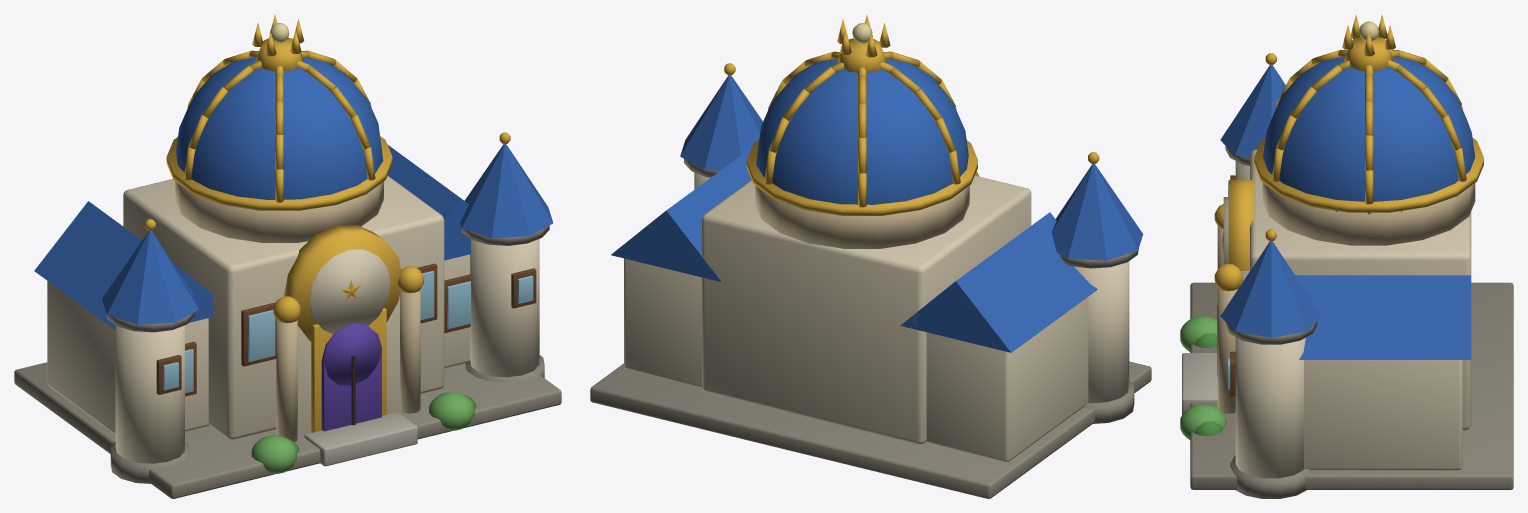
Rendered from k_keep.glb.
The picture shows the model from 3 angles, left to right: view 1: azimuth 30°, elevation 25°; view 2: azimuth 150°, elevation 25°; view 3: azimuth 270°, elevation 25°; orthographic projection. The views are drawn at different scales.
Visible parts, largest first — view 1: SK_k_keep; view 2: SK_k_keep; view 3: SK_k_keep.
Part boxes in pixels (x1,y1,x2,y2): SK_k_keep: (14, 14, 561, 498); SK_k_keep: (590, 14, 1151, 498); SK_k_keep: (1180, 14, 1513, 498).
Bounding box in the file's own units: 6.1 × 4.89 × 3.92.
